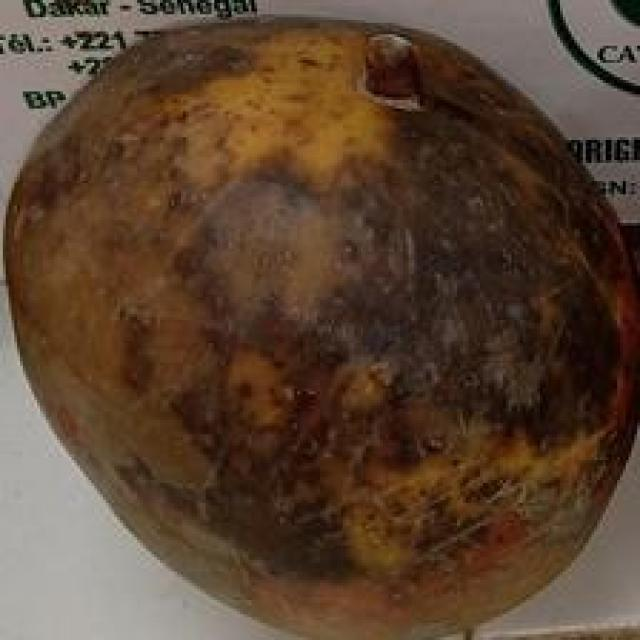Bad_Mango: (8, 19, 638, 640)
